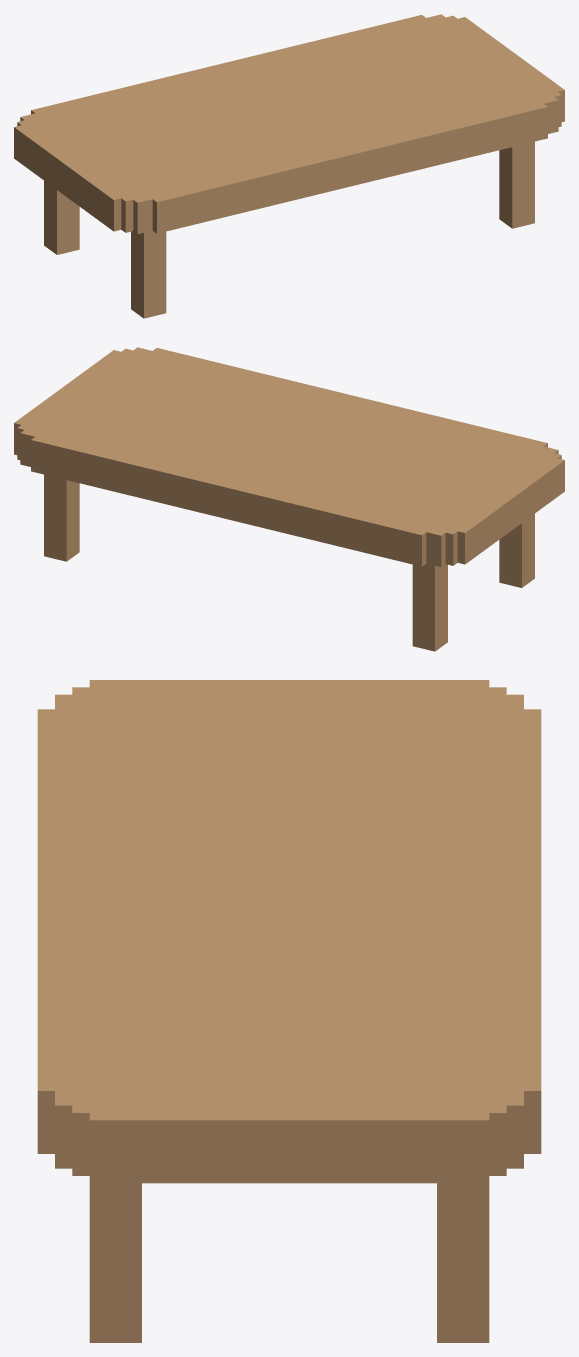
File: Mesa A.obj
The picture shows the model from 3 angles, top to bottom: view 1: azimuth 30°, elevation 25°; view 2: azimuth 150°, elevation 25°; view 3: azimuth 270°, elevation 25°; orthographic projection. The views are drawn at different scales.
Visible parts, largest first — view 1: Model; view 2: Model; view 3: Model.
Boxes of the visible parts, box(x1,y1,x2,y2) form: Model: box(14, 14, 564, 318); Model: box(14, 347, 564, 651); Model: box(37, 680, 541, 1342).
Size of the model in its own units: 30 by 8 by 14.5.
1 material, 1 textured.
